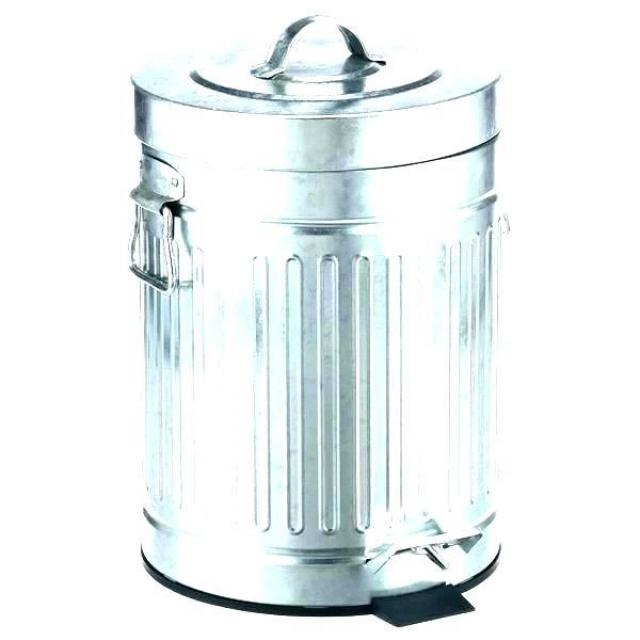metel: (112, 16, 531, 625)
